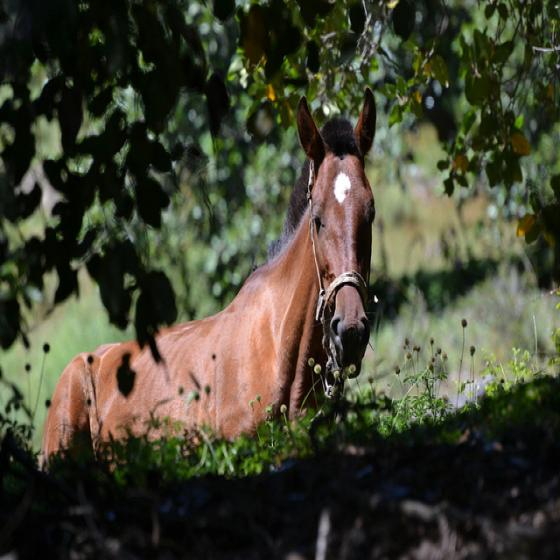horse: (40, 85, 377, 468)
